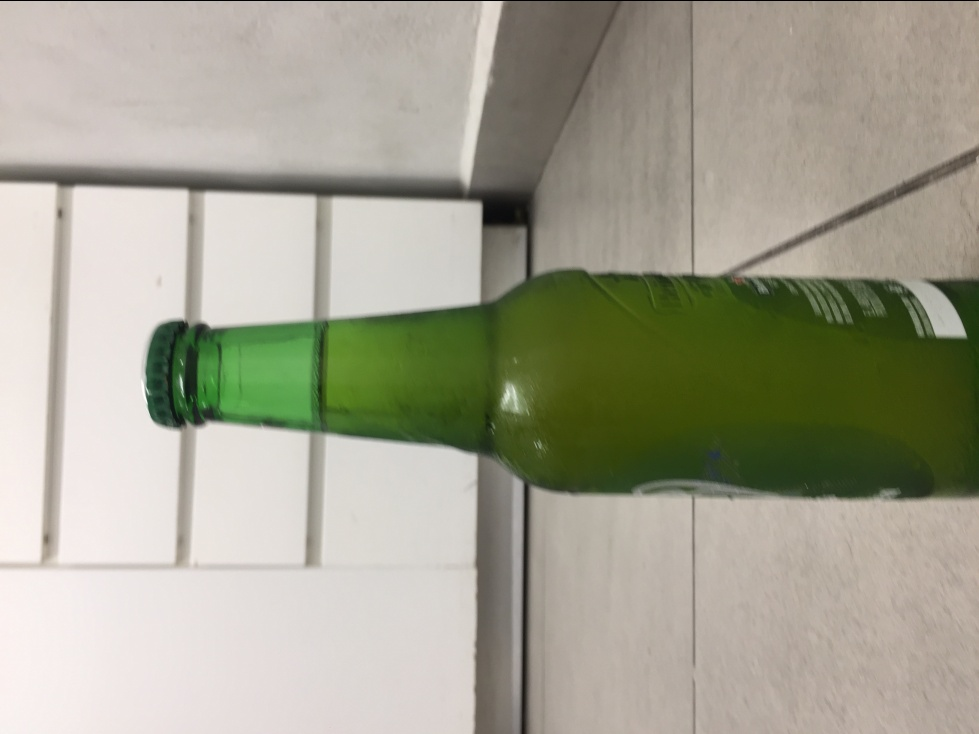heineken: (138, 267, 978, 501)
